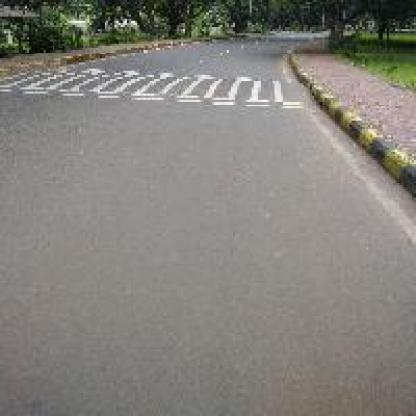Speed Bump: (2, 63, 306, 110)
